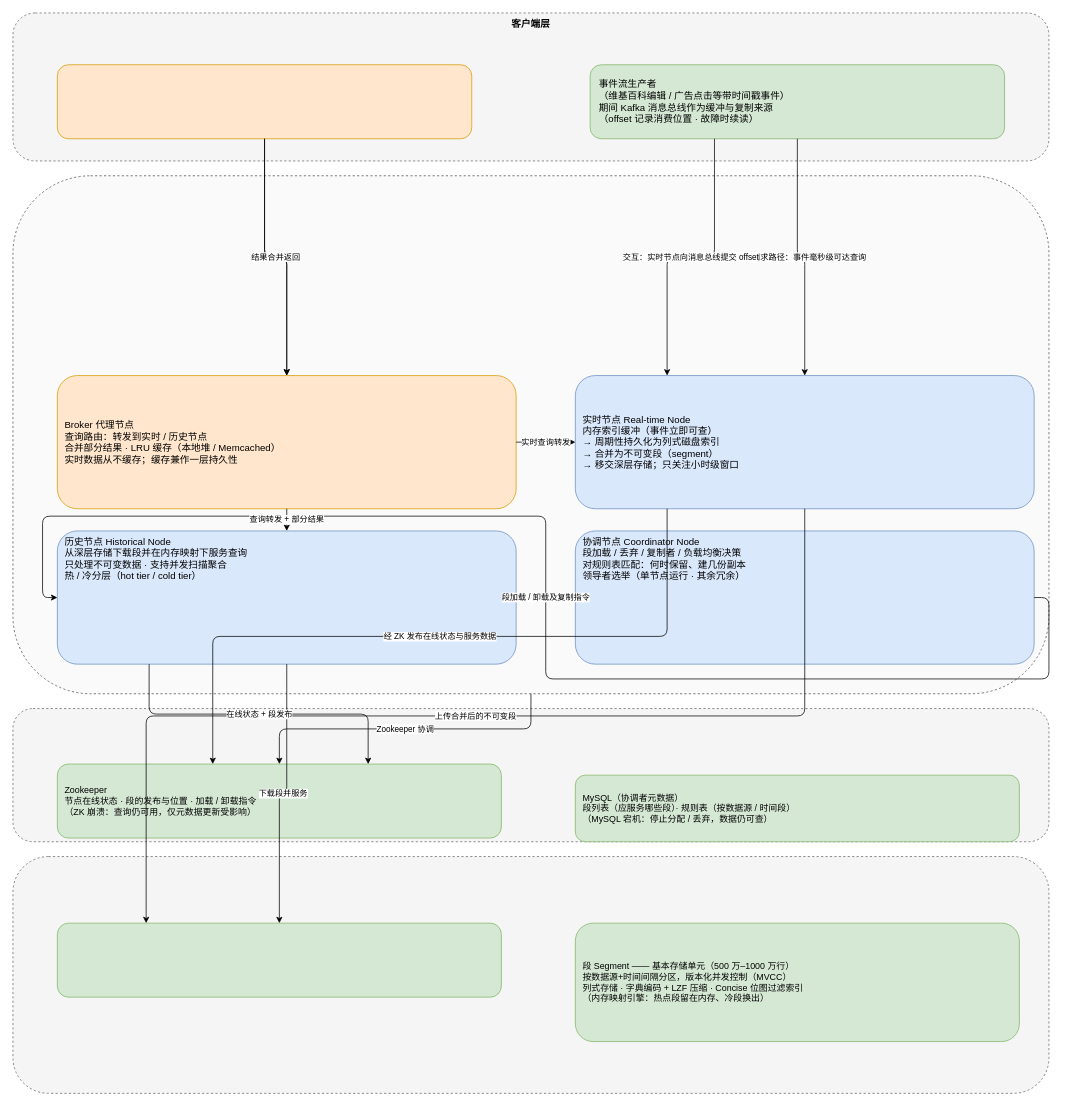
Some shapes in this 1068 by 1106 pixel diagram are drawn without their labels. The shapes that lost their labels are listed below. From the top down, each one's box as (x1, y1, x2, y2) in pixels, then its label:
(57, 64, 472, 139): 数据可视化 / Dashboard 应用 任意维度组合的即席聚合与过滤查询 （POST JSON 查询 · 期望亚秒级响应）
(12, 175, 1049, 694): Druid 集群层（无共享 · 节点角色分离）
(12, 708, 1049, 842): 协调与元数据服务（外部依赖 · 故障只影响管理不影响数据）
(57, 922, 501, 997): 深层存储 Deep Storage（S3 / HDFS） 不可变段的持久备份 · 复制与恢复的基准
(12, 856, 1049, 1093): 存储层
